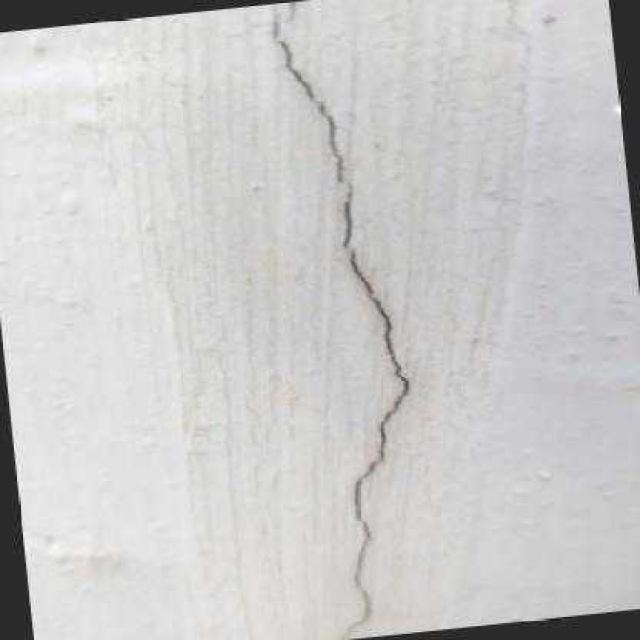D00: (268, 17, 410, 640), (283, 0, 300, 21)
